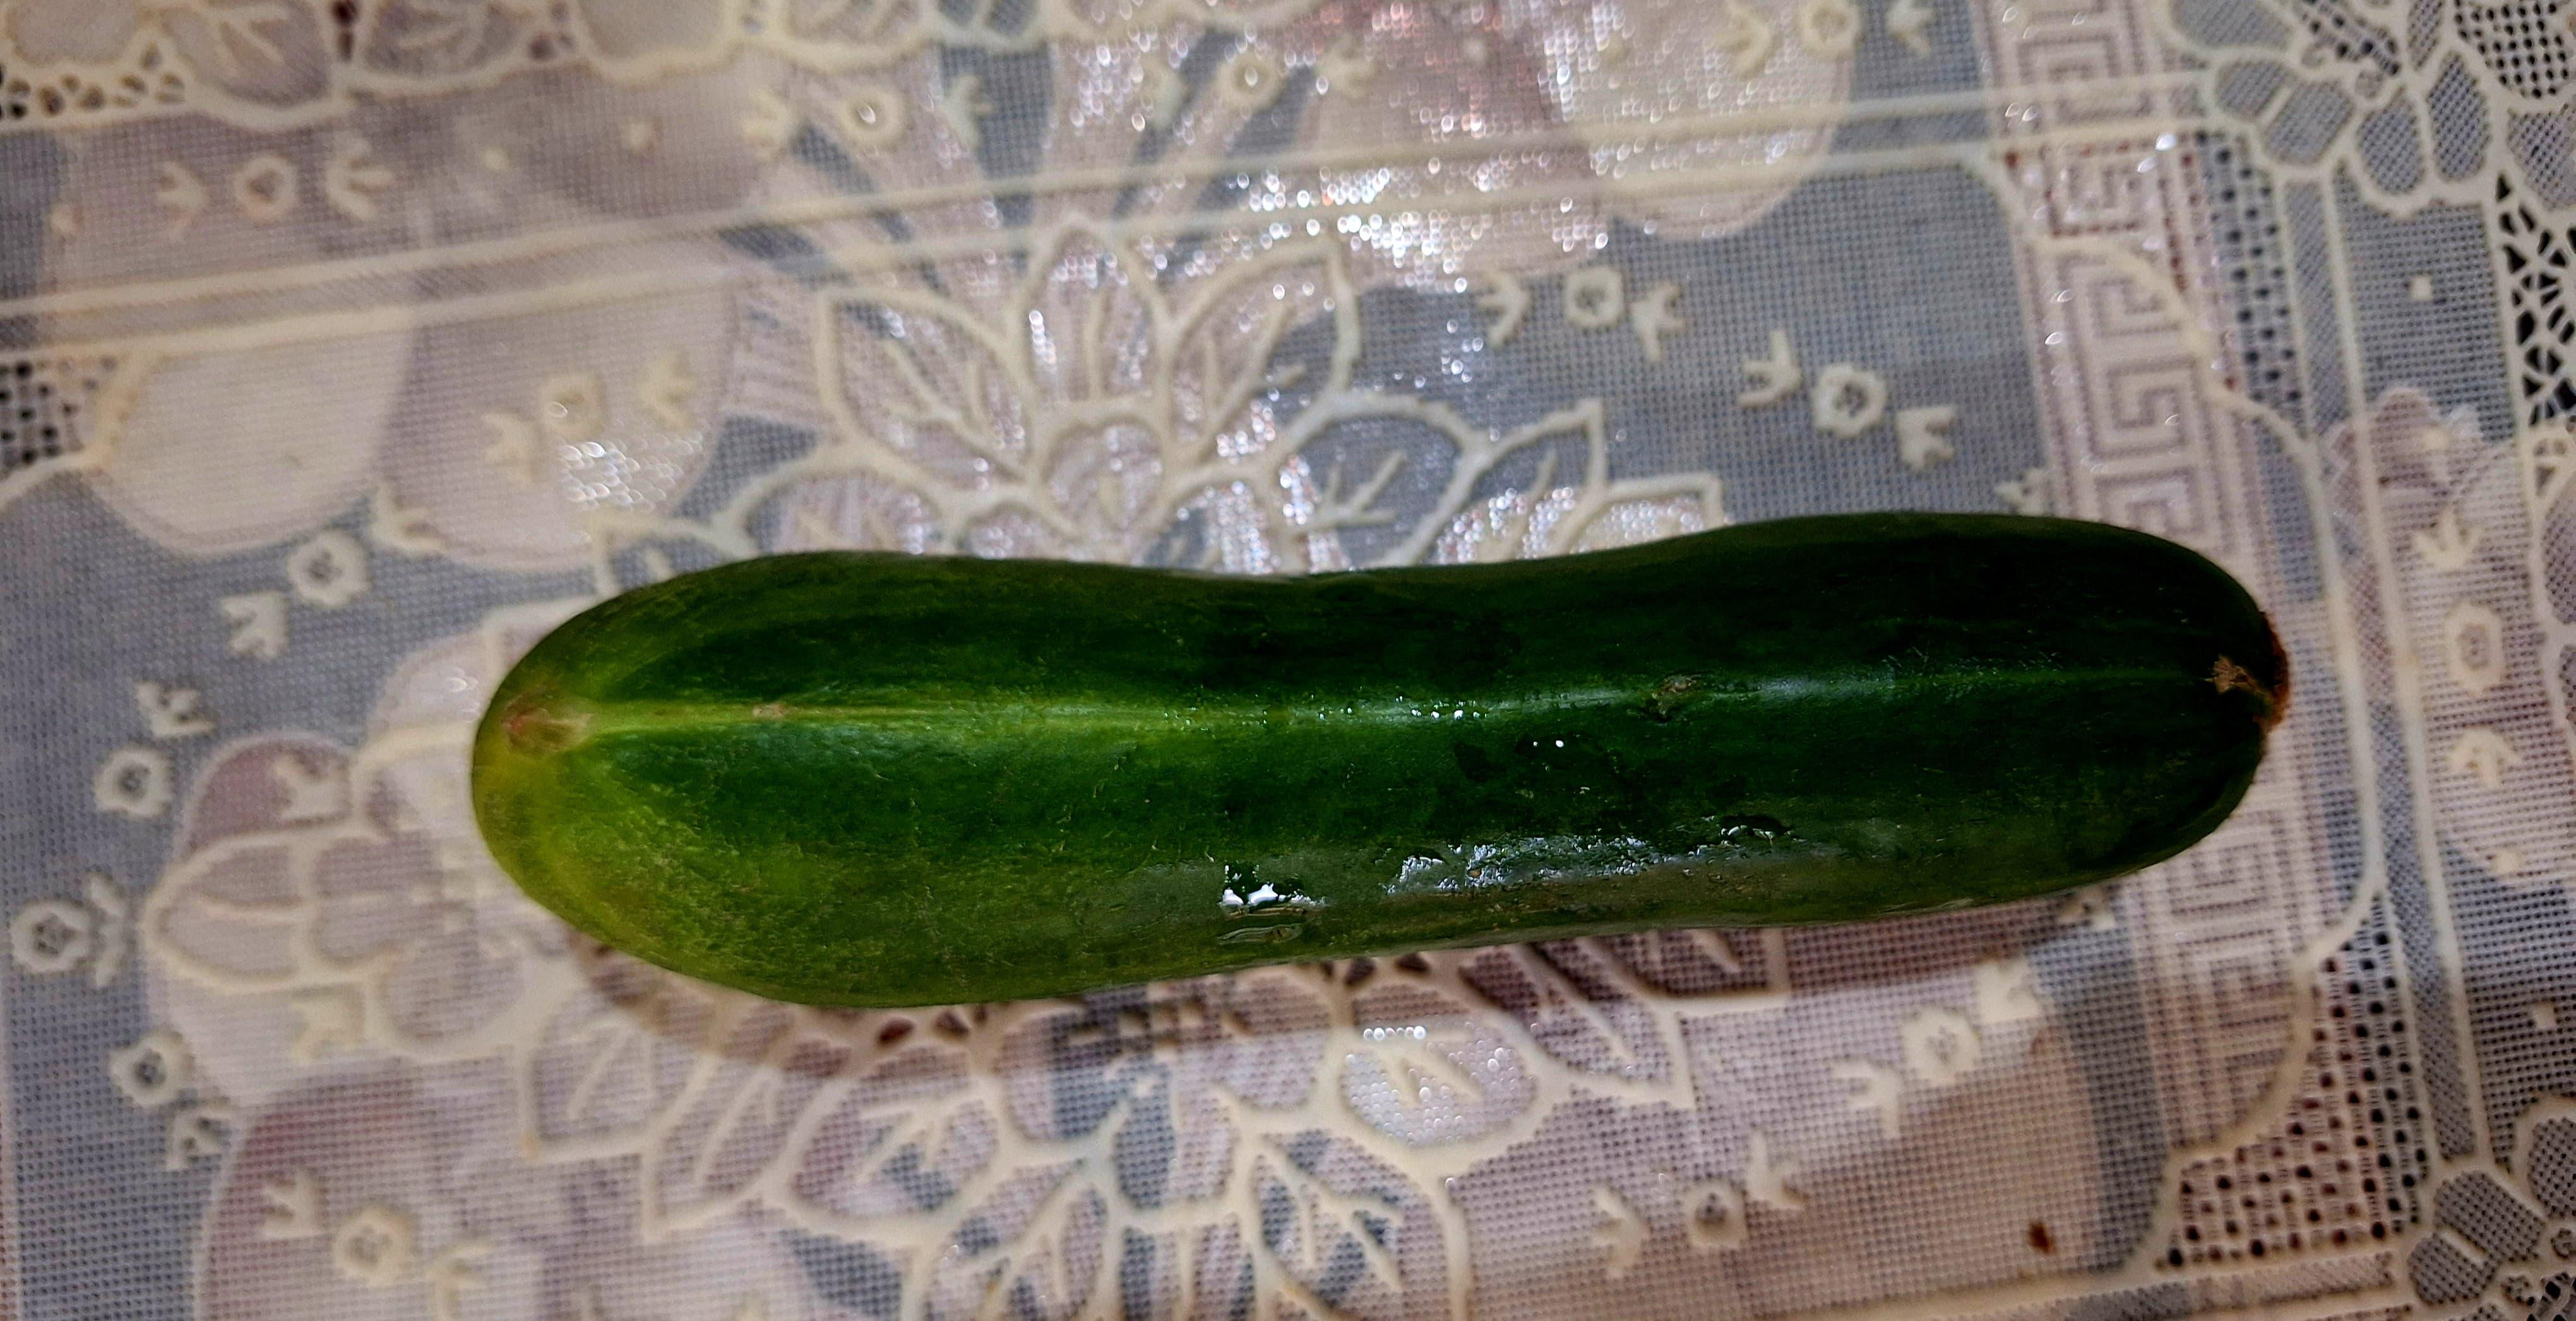non-mango: (467, 505, 2293, 1011)
